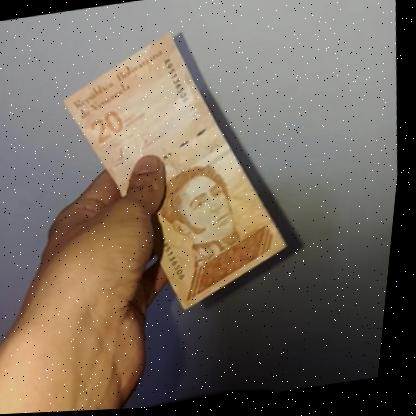twenty-front-vef: (41, 16, 315, 330)
